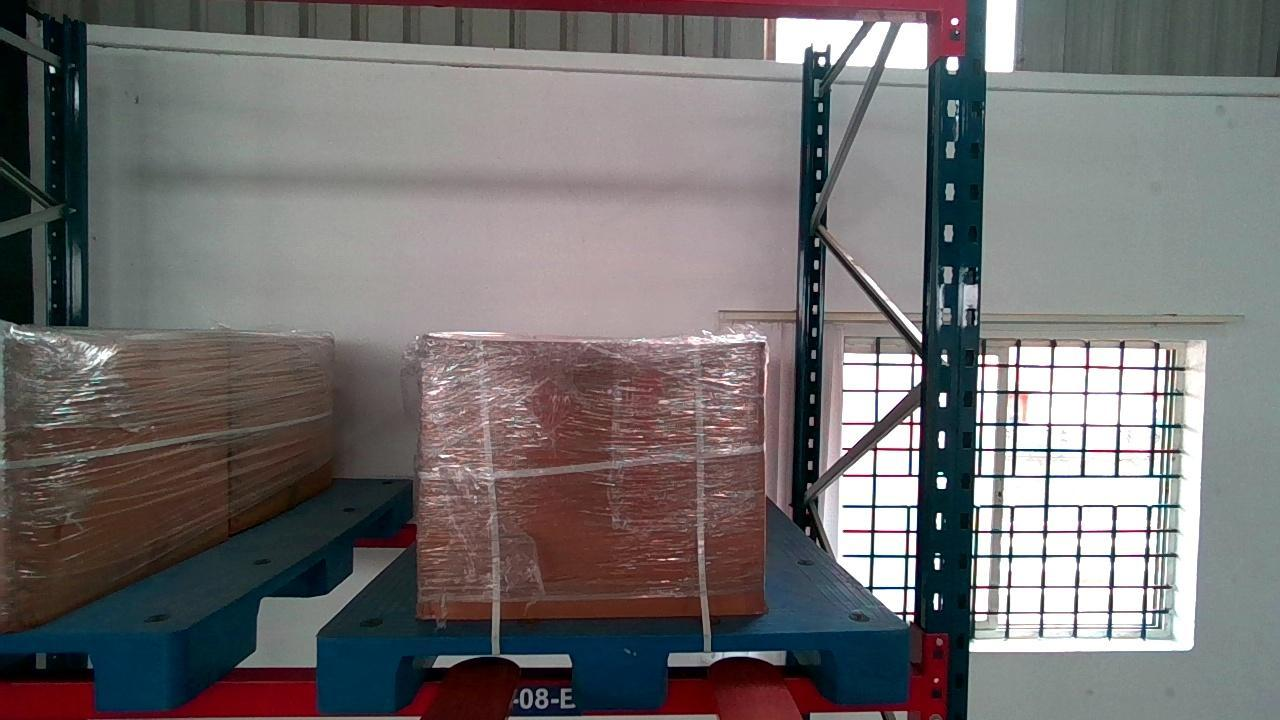small_pallet: (318, 630, 915, 707)
